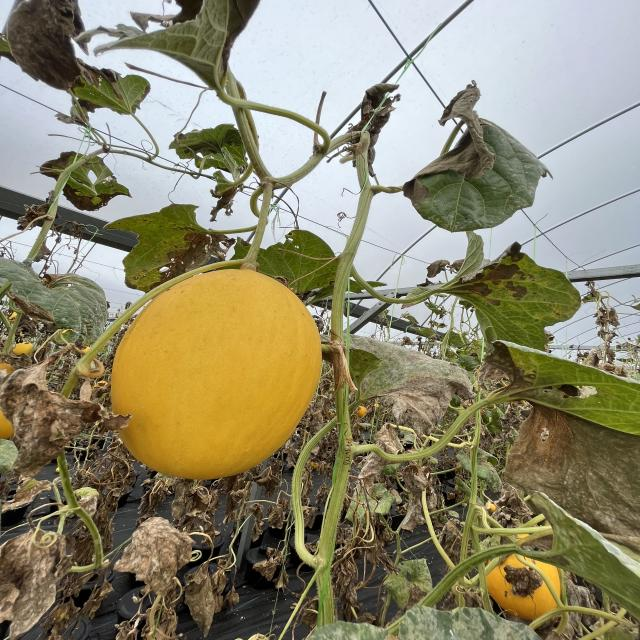alternaria leaf blight: (471, 337, 640, 550), (349, 332, 474, 433), (0, 256, 110, 350)
bacterial wilt: (399, 80, 552, 236), (428, 231, 584, 357), (512, 492, 640, 622), (100, 205, 224, 291), (111, 521, 198, 640), (0, 0, 99, 85), (0, 530, 67, 640), (69, 68, 161, 119), (354, 80, 407, 138), (378, 557, 434, 605), (184, 563, 220, 633), (203, 174, 246, 222), (500, 565, 545, 596), (141, 483, 173, 516), (245, 505, 268, 537)
